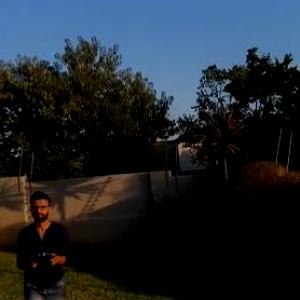follow: (13, 188, 75, 299)
